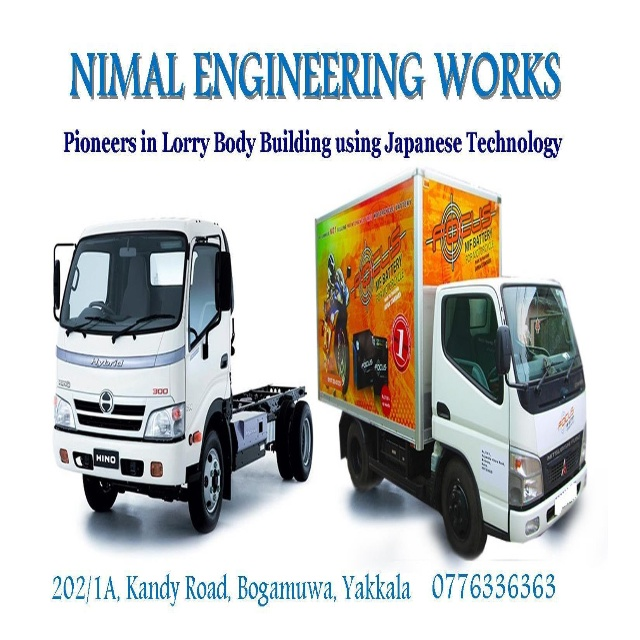Truck: (314, 169, 587, 561), (53, 217, 312, 534)
